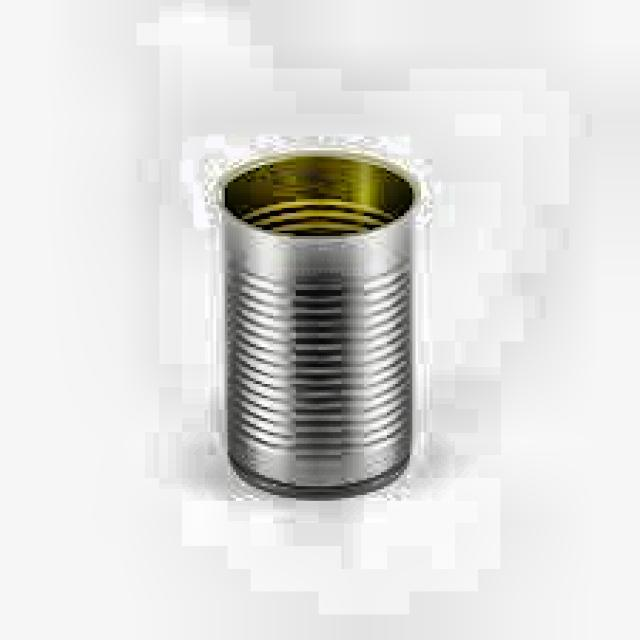can: (205, 136, 430, 508)
